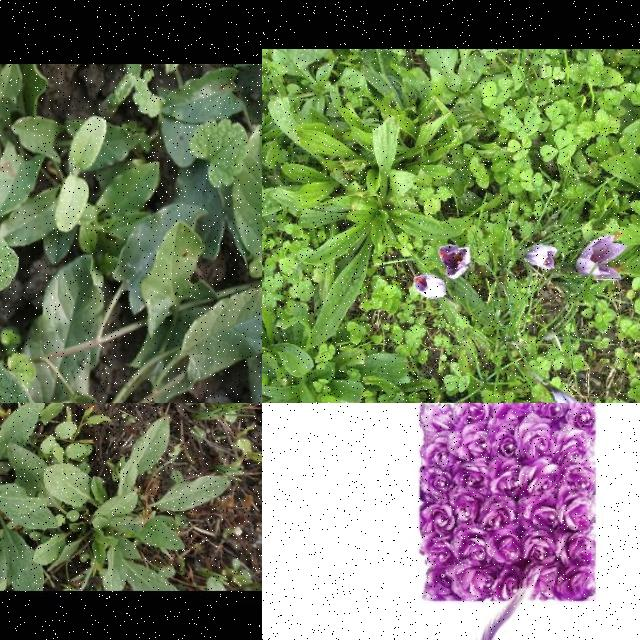flower: (576, 234, 628, 280), (438, 244, 472, 280), (551, 381, 593, 403), (524, 244, 558, 270), (414, 276, 446, 300)
